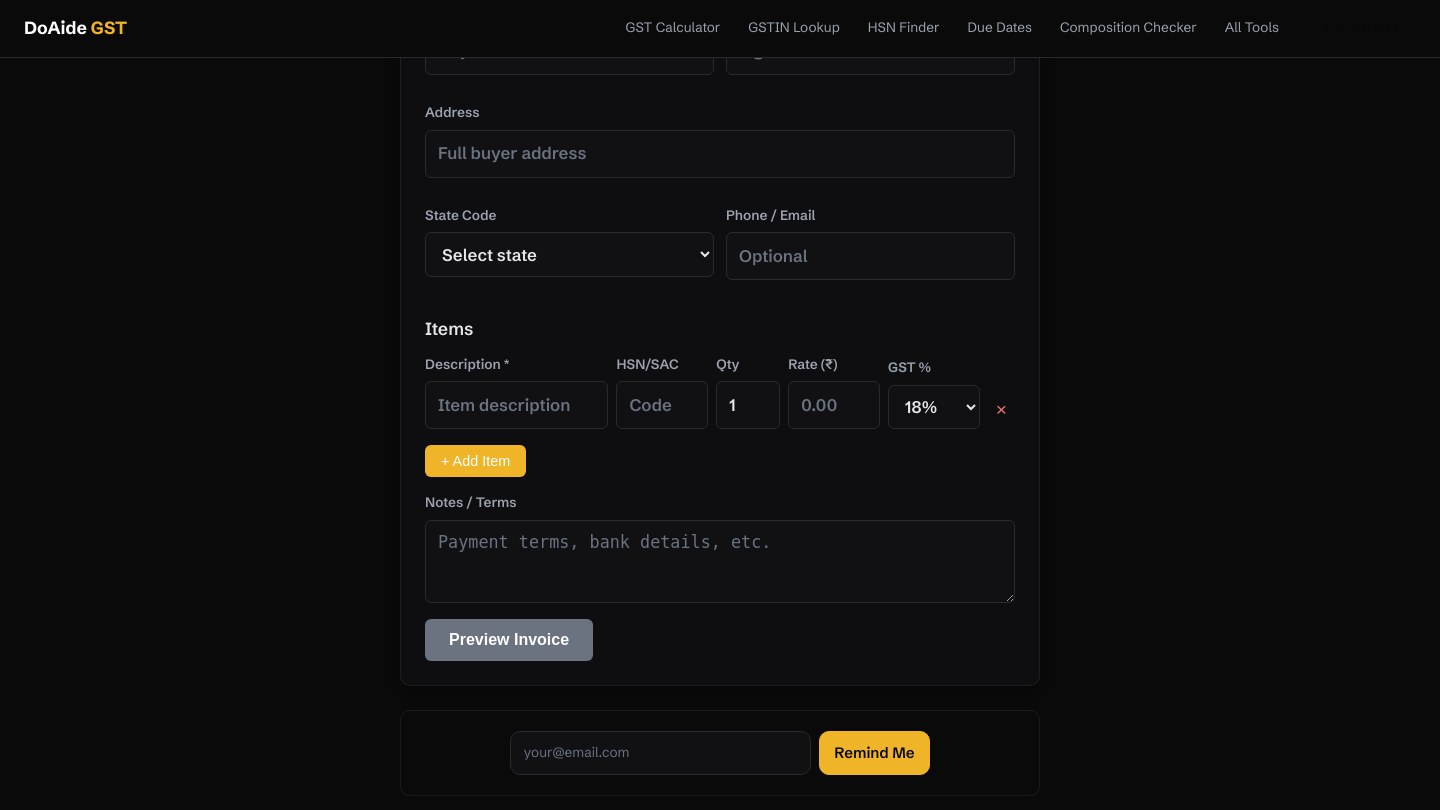
Scenario: InvoiceGeneratorPage › shows total when item rate is entered
The image size is (1440, 810).
(page scrolled)
Type "1000" into the number field with placeholder "0.00" at (834, 406), box [788,382,880,430]
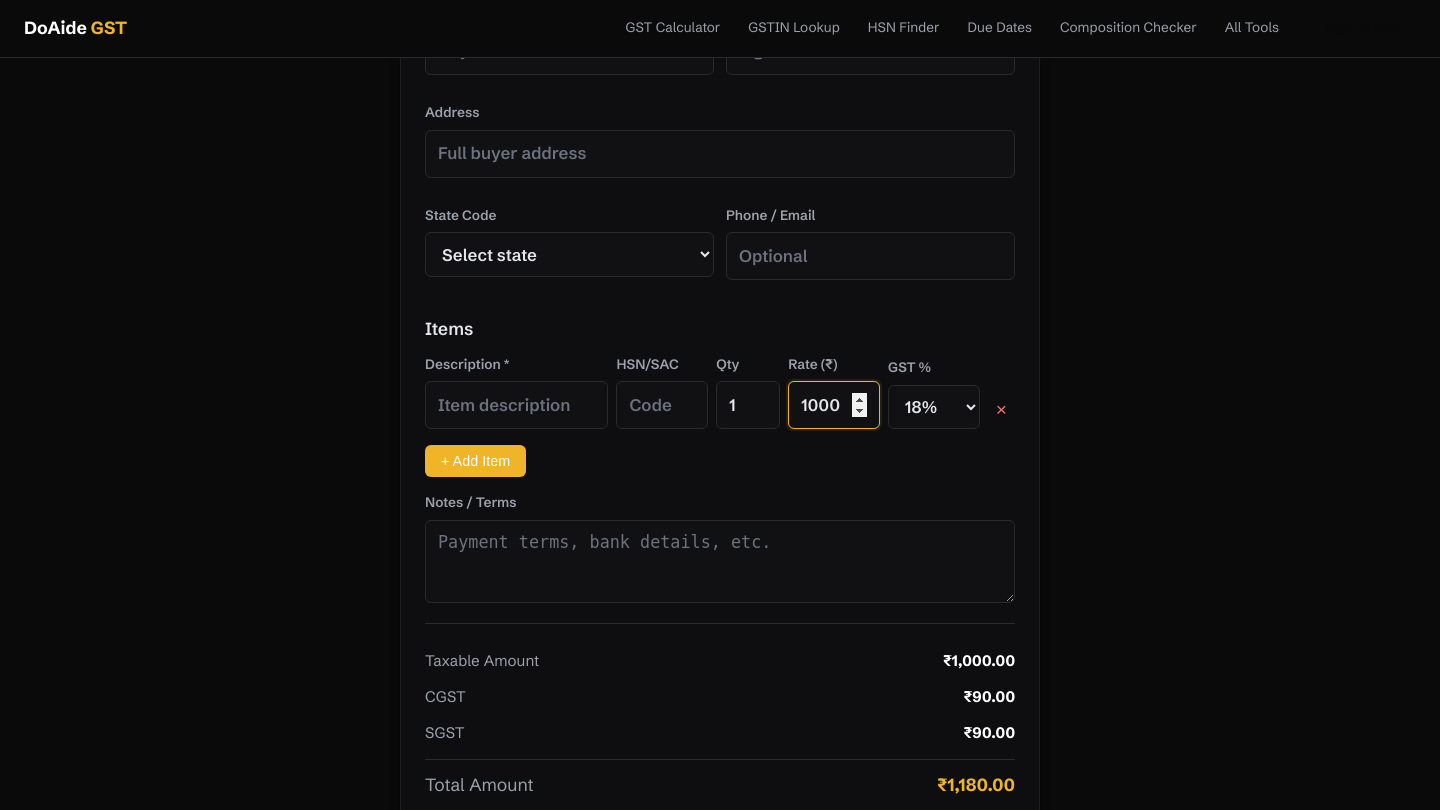
expect the element with class "calc-result" is shown: met, box [425,623,1015,804]
expect the element with class "calc-result" shows "Taxable Amount": met, box [425,651,539,670]
